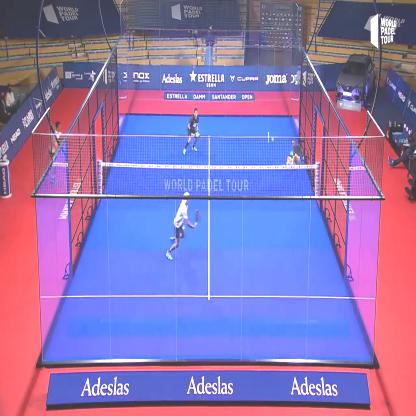ball: (268, 132, 275, 144)
